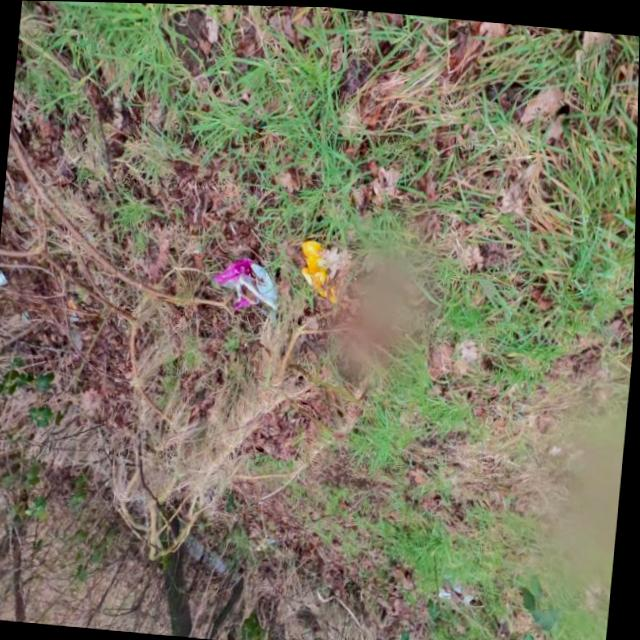Can-Metal: (0, 268, 9, 289)
Plastic: (212, 252, 283, 314), (296, 236, 354, 304)
